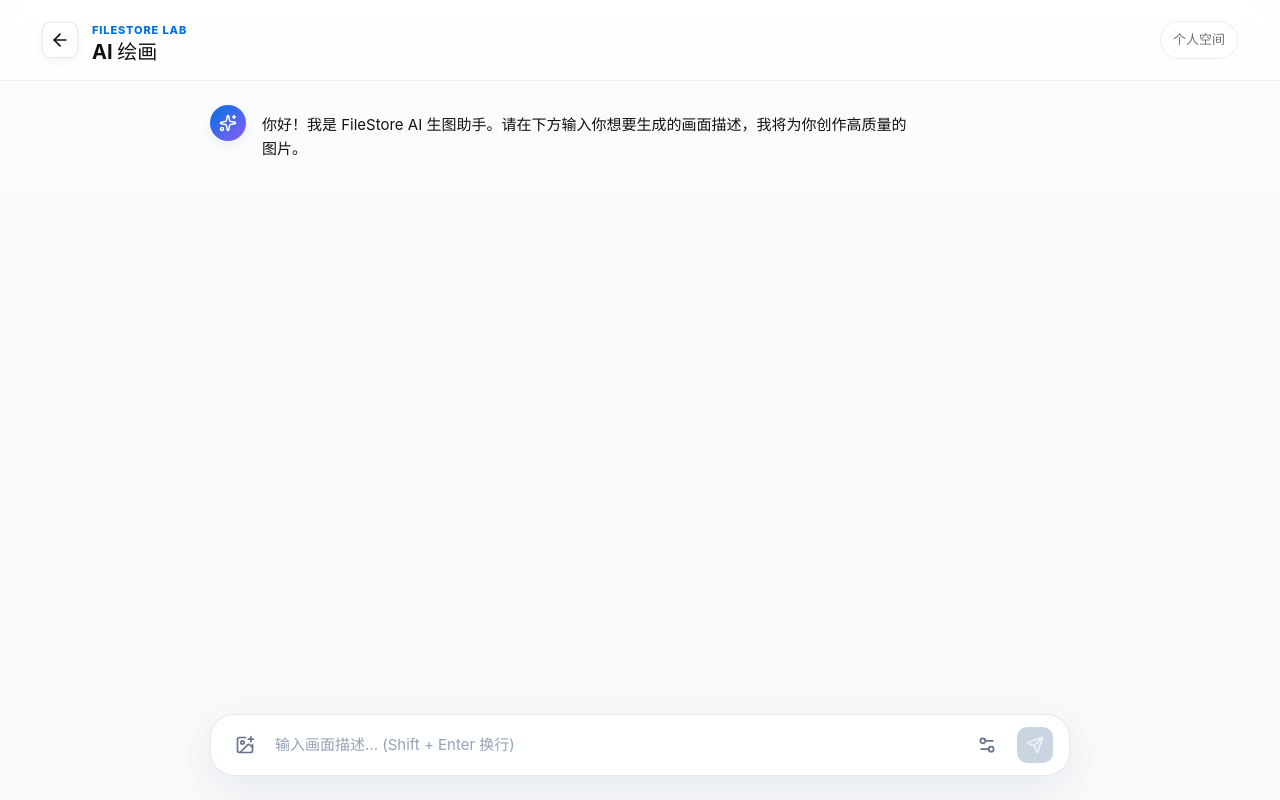
AiImagePage › shows an API error when generation fails
Click the button named "生图设置". click: (987, 745)
box: [969,727,1005,763]
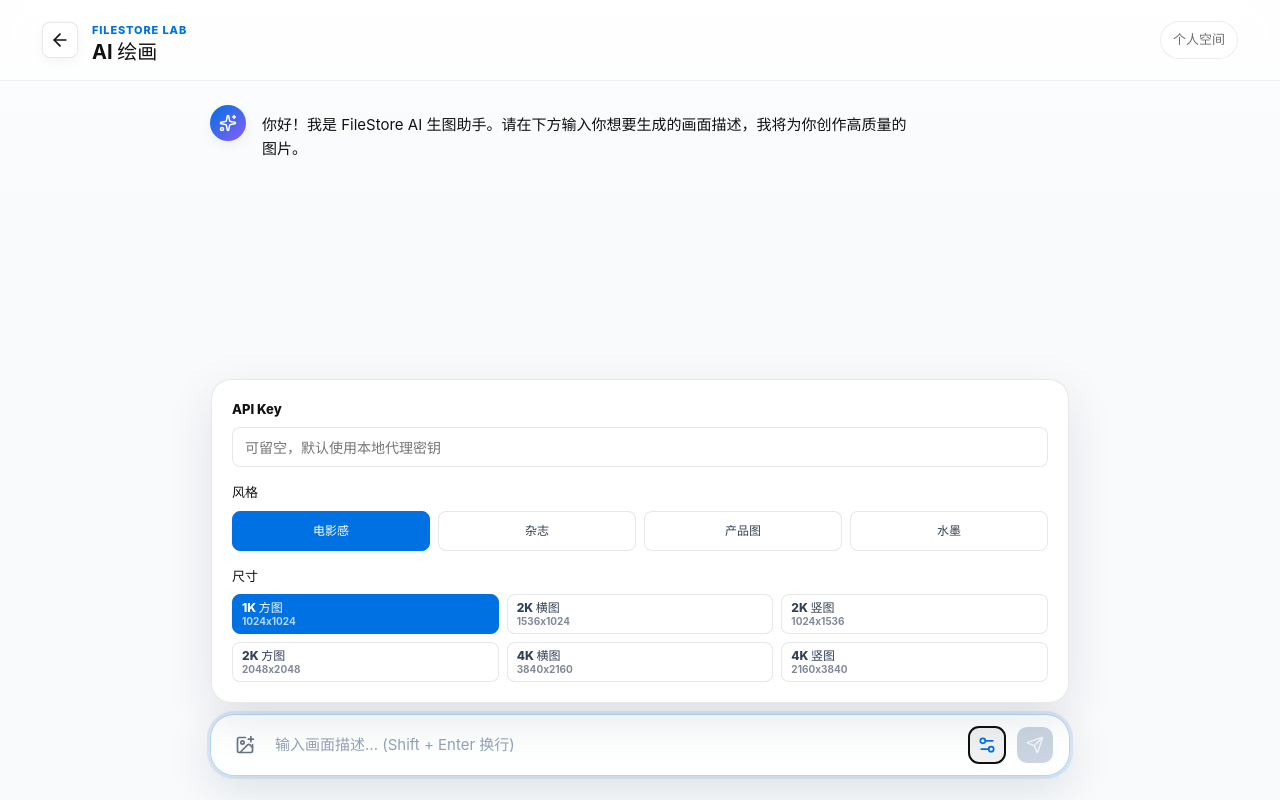
Type "sk-test" into the password field with placeholder "可留空，默认使用本地代理密钥". click: (640, 447)
box: [232,427,1048,467]
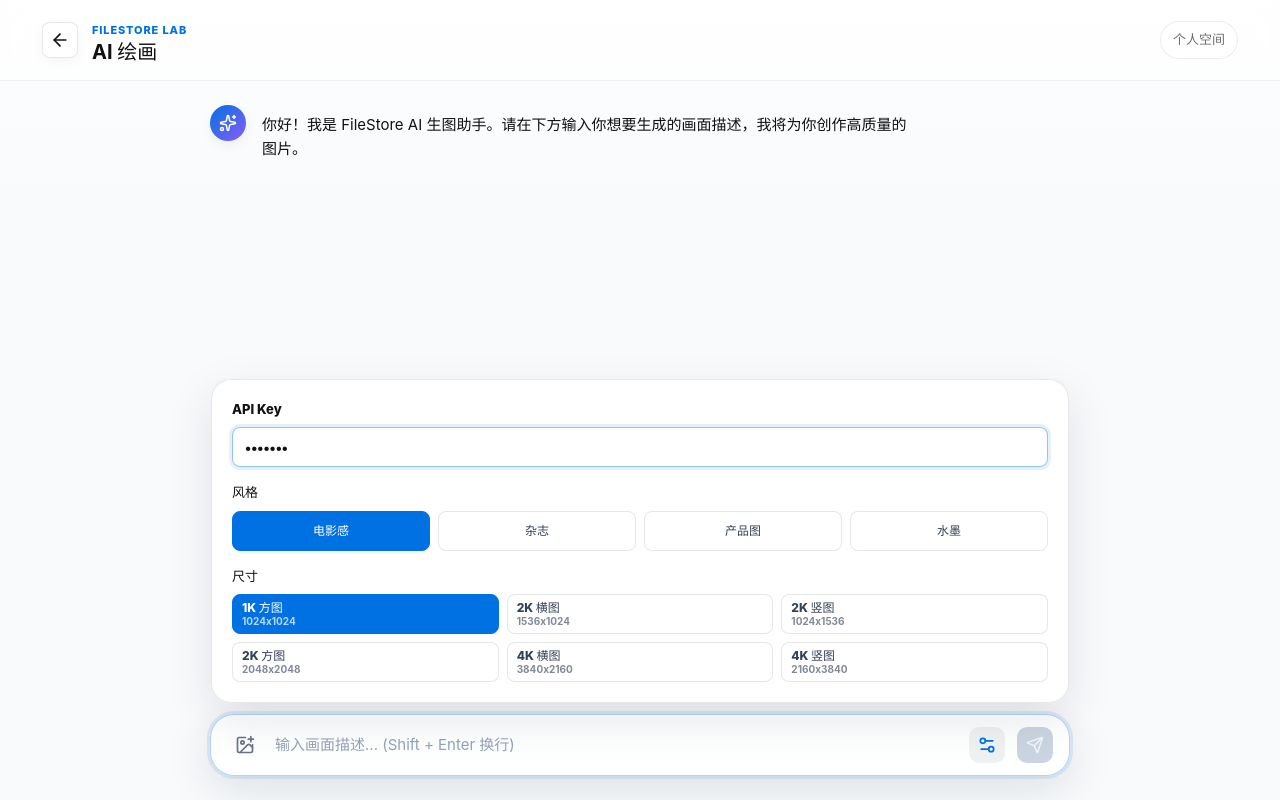
Type "A clean commercial poster" into the text box labelled "输入画面描述". click: (616, 746)
box: [275,728,957,763]
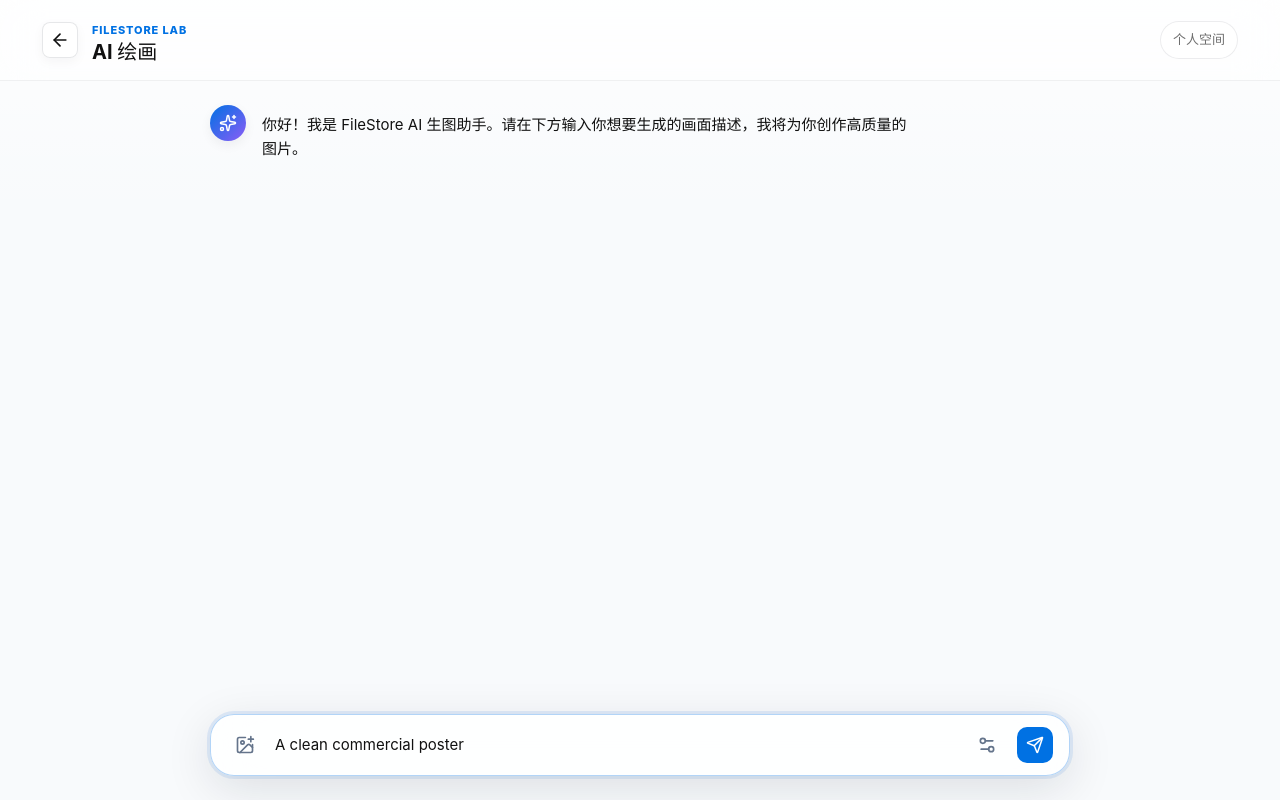
Click the button named "发送". click: (1035, 745)
box: [1017,727,1053,763]
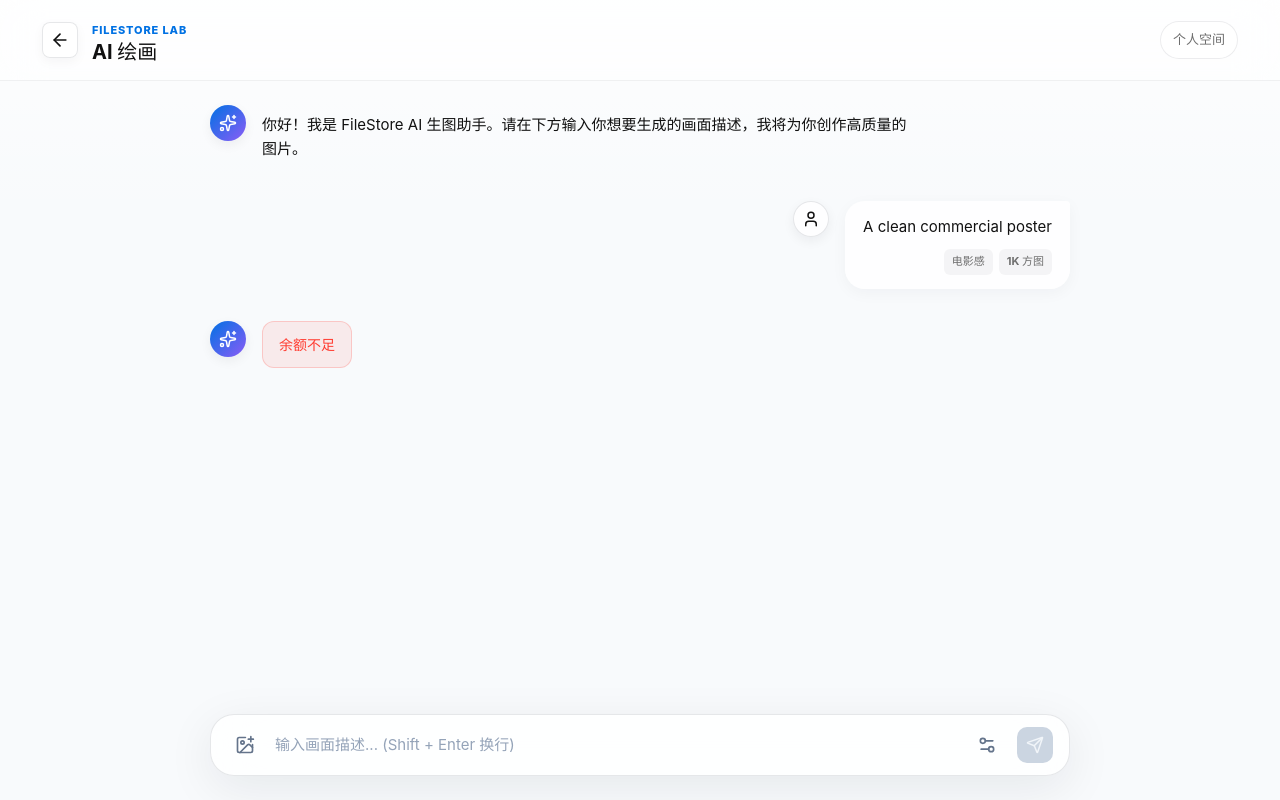
Expected: the text "余额不足" is shown, [262,321,352,368]
